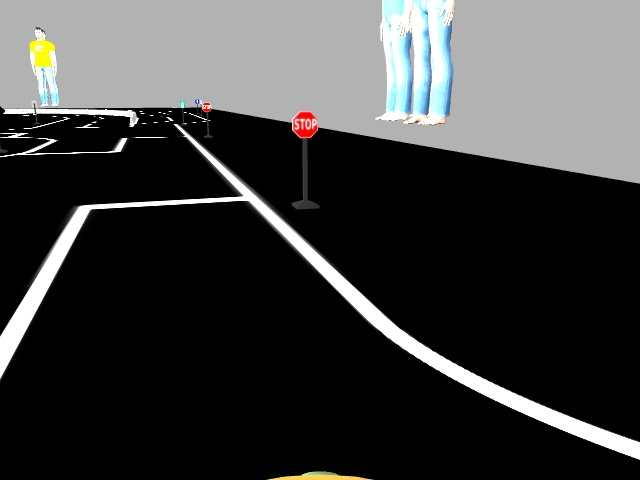Stop: (292, 111, 317, 138), (201, 102, 211, 111)
